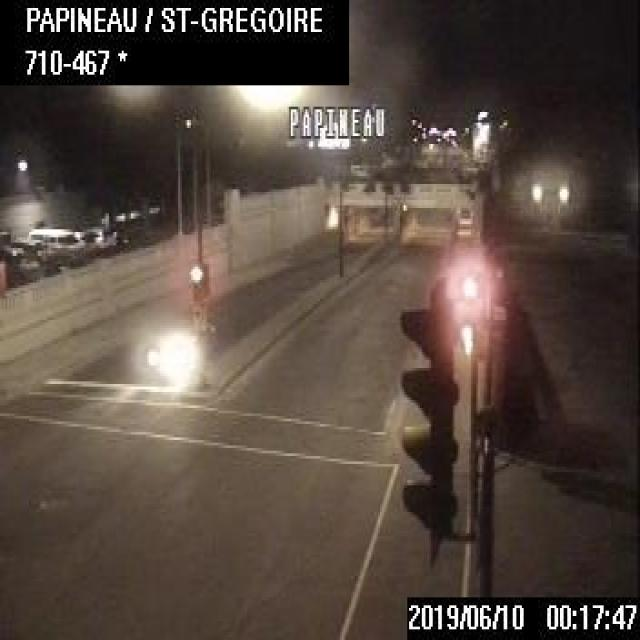vehicle: (139, 331, 193, 387), (26, 225, 84, 263), (77, 224, 114, 248)
